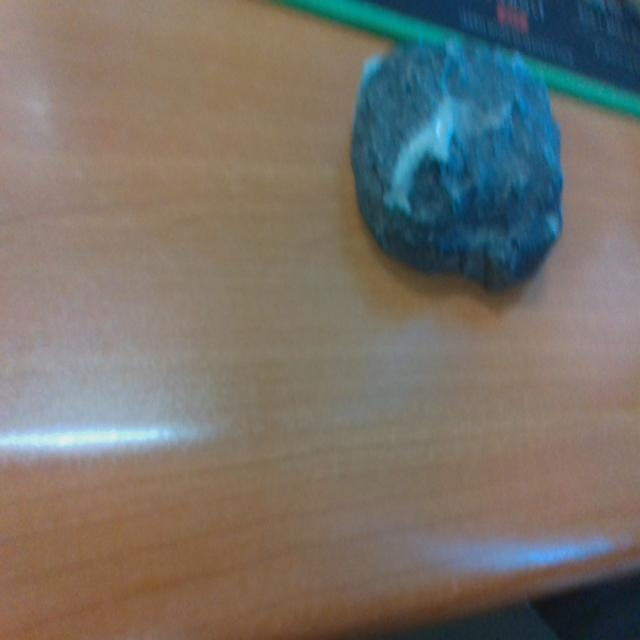stone: (346, 34, 567, 294)
